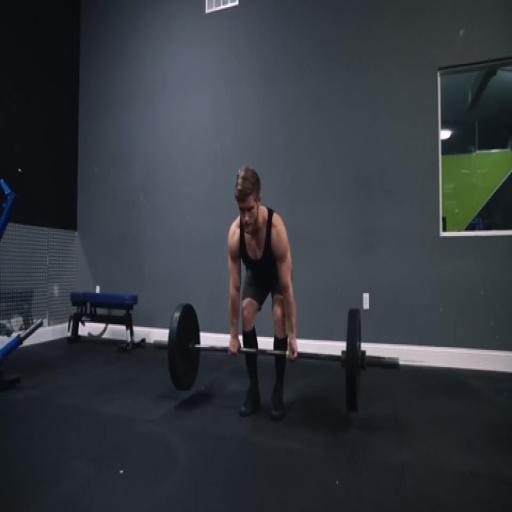exercise: (224, 162, 302, 423)
